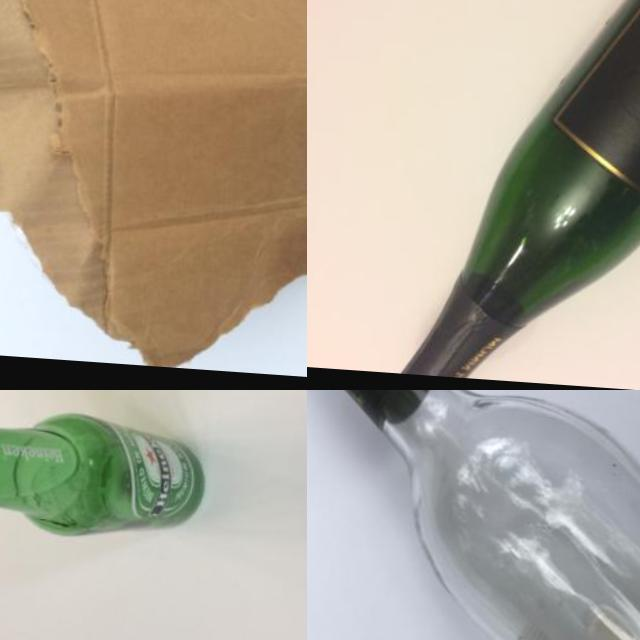garrafa de vidro: (399, 0, 640, 390), (307, 390, 640, 640), (0, 394, 213, 543)
papelão: (0, 0, 307, 379)
